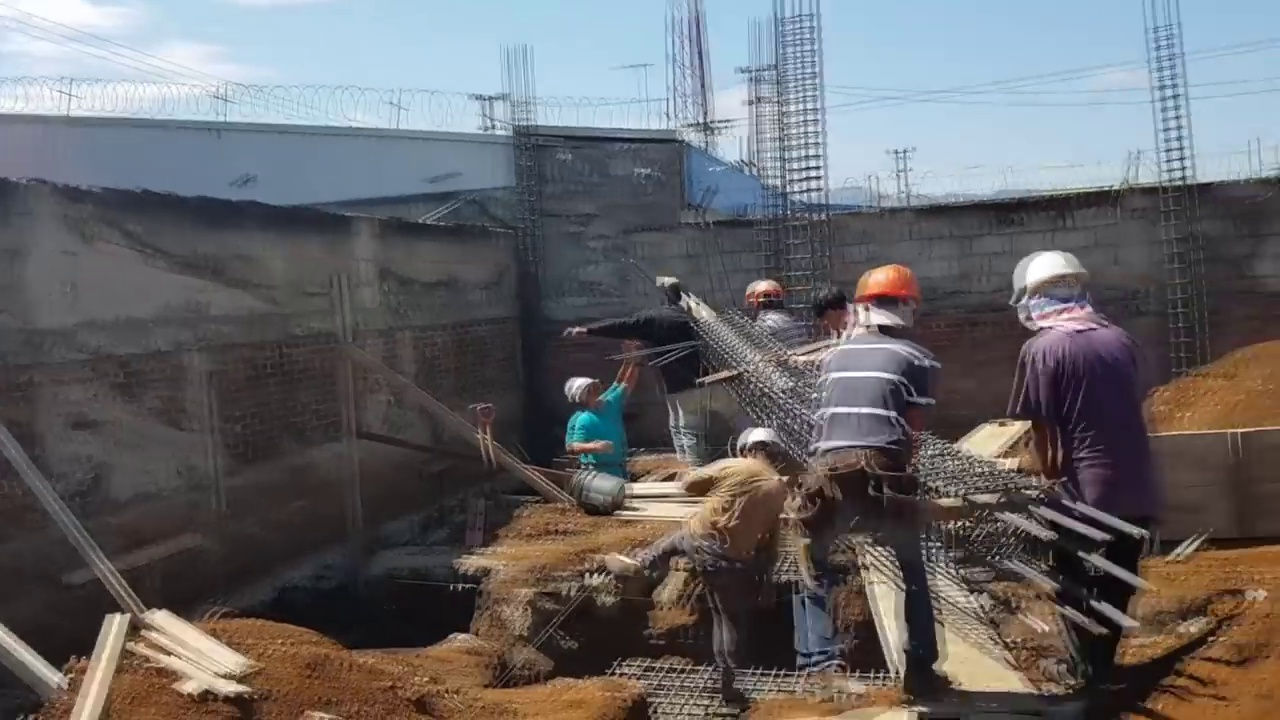helmet: (1011, 252, 1088, 306), (853, 267, 922, 317), (738, 426, 787, 458), (744, 279, 786, 302)
helmet-off: (813, 287, 853, 338), (565, 375, 601, 414), (654, 283, 686, 313)
helmet-on: (1011, 246, 1097, 335), (850, 265, 925, 339), (737, 424, 788, 473), (743, 277, 787, 316)
person: (1004, 253, 1161, 697), (797, 264, 941, 649), (608, 424, 788, 716), (564, 281, 704, 477), (565, 358, 634, 470), (743, 275, 807, 356)
